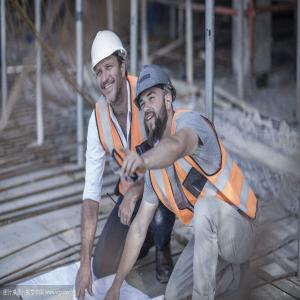blue: (135, 63, 177, 139)
white: (91, 29, 129, 103)
